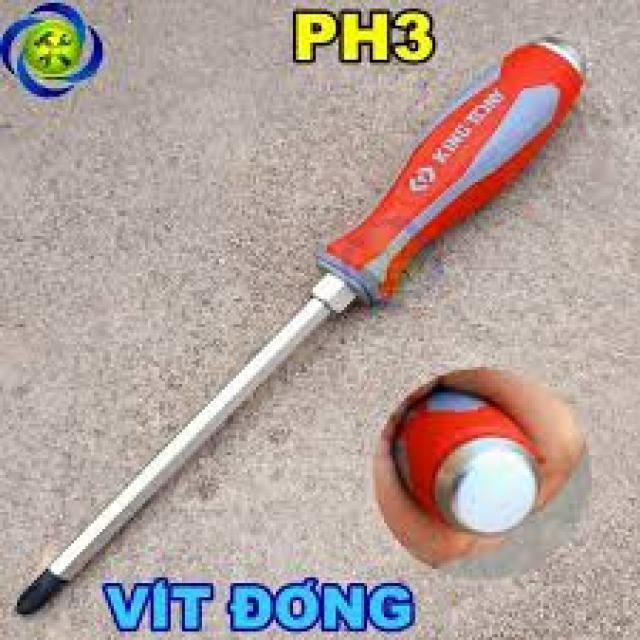screwdriver: (11, 34, 592, 612)
